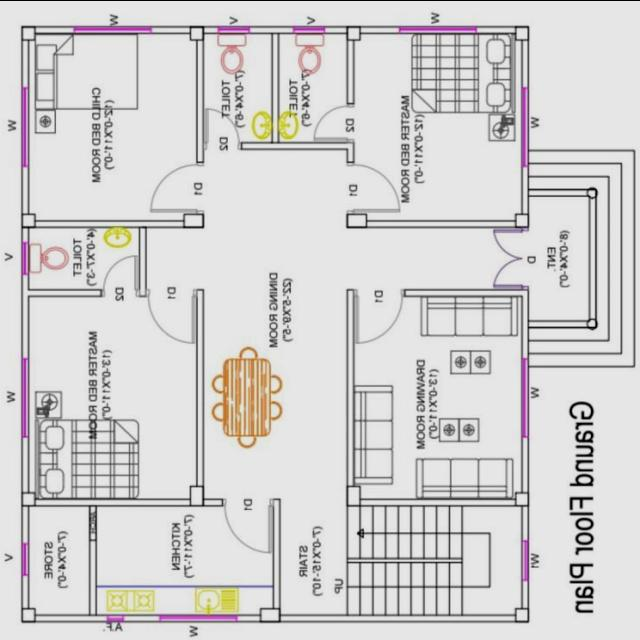Blueprint: (10, 12, 542, 634)
column: (182, 210, 209, 230), (258, 604, 283, 624), (187, 482, 206, 508), (512, 488, 532, 511), (18, 488, 38, 510), (188, 20, 208, 42), (512, 22, 532, 44), (346, 212, 370, 230), (512, 603, 532, 624), (345, 22, 364, 44), (346, 482, 362, 508), (19, 210, 39, 230), (19, 604, 37, 626), (513, 210, 531, 232), (20, 22, 38, 42)
wall: (277, 610, 517, 624), (344, 288, 356, 488), (195, 286, 205, 488), (356, 495, 518, 507), (33, 497, 193, 508), (194, 36, 207, 165), (32, 218, 186, 228), (364, 218, 518, 228), (402, 286, 532, 297), (271, 495, 283, 611), (270, 31, 282, 144), (238, 140, 356, 150), (86, 538, 100, 616), (19, 271, 31, 361), (26, 286, 104, 298), (31, 611, 109, 623), (137, 223, 148, 300), (344, 37, 356, 105), (518, 434, 530, 496), (520, 286, 530, 360), (20, 432, 30, 494), (519, 37, 530, 90), (19, 502, 32, 546), (148, 22, 194, 34), (20, 37, 30, 90), (20, 163, 30, 216), (248, 24, 296, 35), (520, 164, 530, 216), (33, 23, 76, 35), (519, 503, 531, 542), (474, 24, 518, 34), (358, 24, 400, 34), (121, 613, 162, 623), (20, 572, 31, 609), (518, 578, 530, 610), (322, 23, 350, 35), (236, 612, 264, 624), (200, 495, 227, 506), (200, 22, 220, 34), (345, 145, 355, 165), (21, 225, 29, 243)
